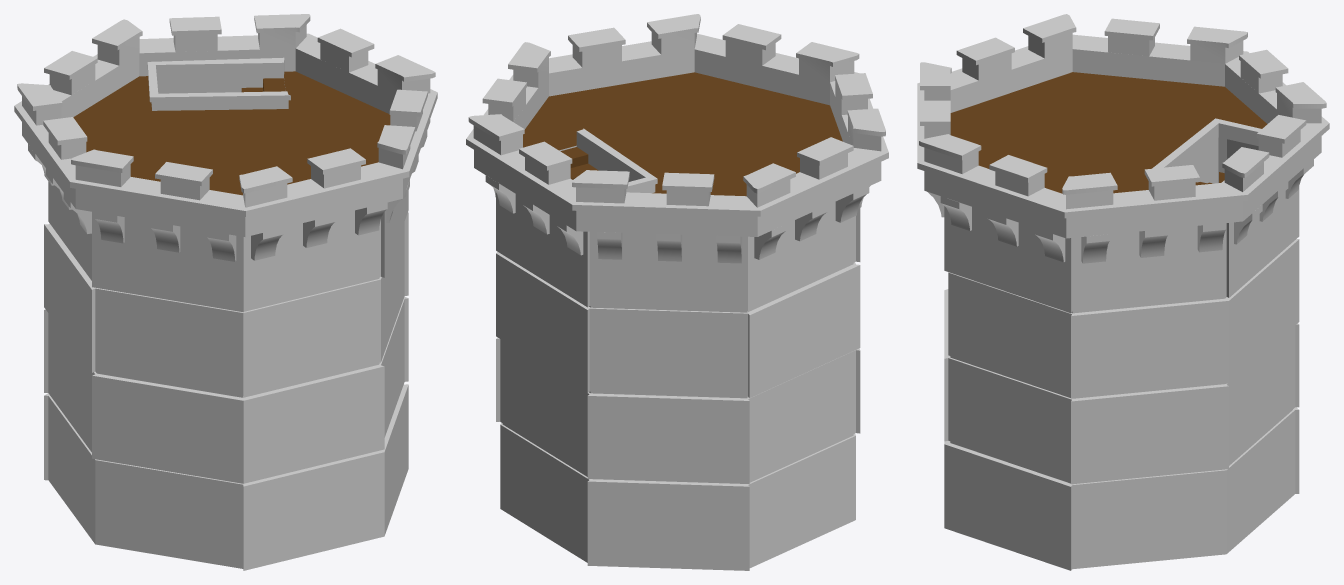
File: TorreArquerosNivel2.fbx
The picture shows the model from 3 angles, left to right: view 1: azimuth 30°, elevation 25°; view 2: azimuth 150°, elevation 25°; view 3: azimuth 270°, elevation 25°; orthographic projection.
Parts seen in each view (by area): view 1: Torre de arqueros Nivel2; view 2: Torre de arqueros Nivel2; view 3: Torre de arqueros Nivel2.
Part boxes in pixels (x1,y1,x2,y2): Torre de arqueros Nivel2: [14, 14, 437, 570]; Torre de arqueros Nivel2: [466, 14, 888, 570]; Torre de arqueros Nivel2: [917, 14, 1329, 570].
Bounding box in the file's own units: 140 × 144 × 137.
